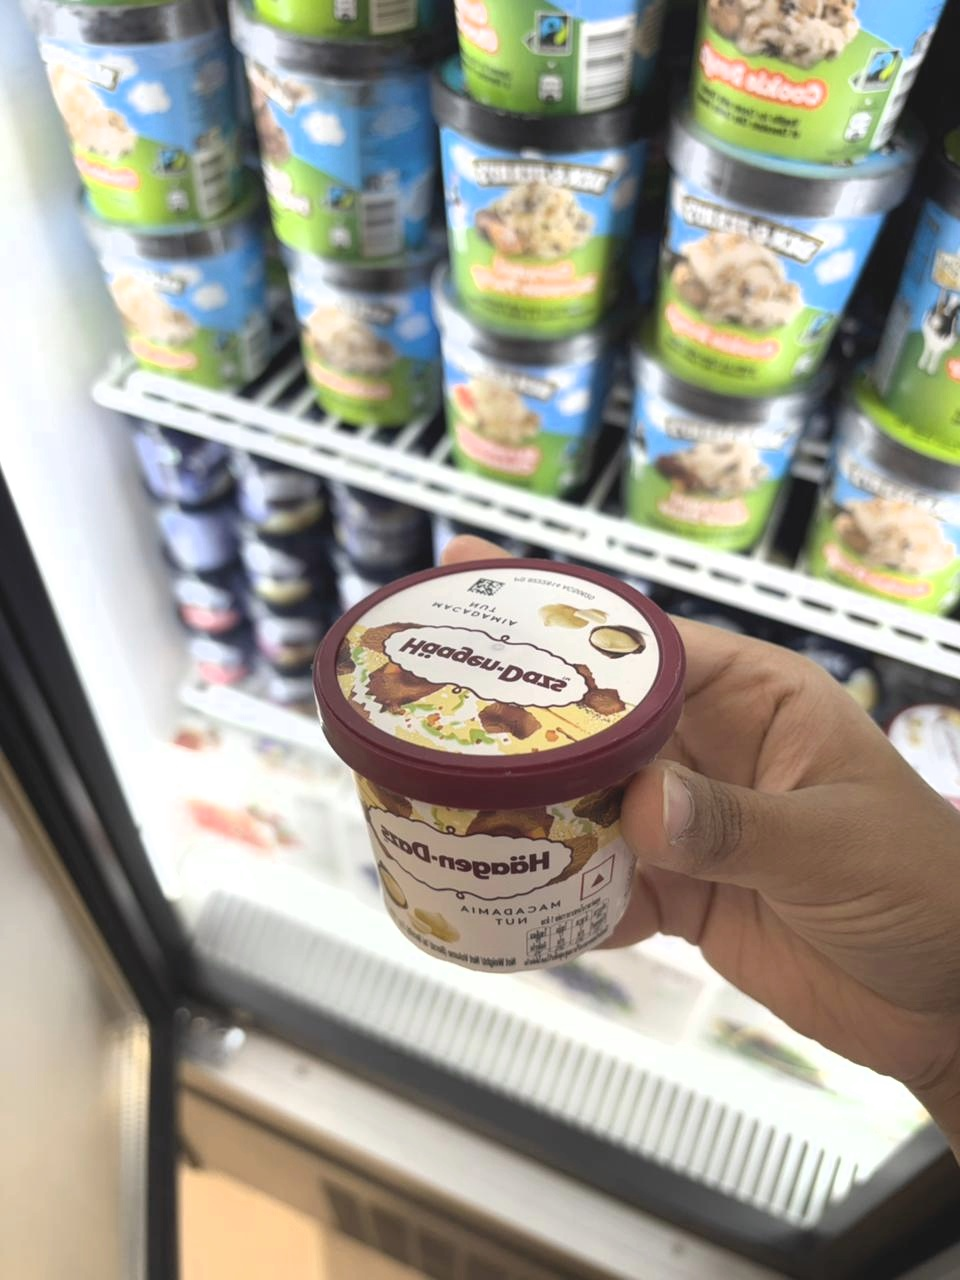Haagen-Dazs IceCream Tub: (308, 553, 697, 998)
